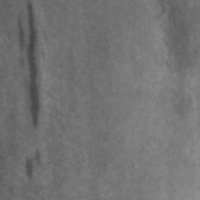inclusion: (14, 2, 46, 131), (24, 144, 46, 181)
